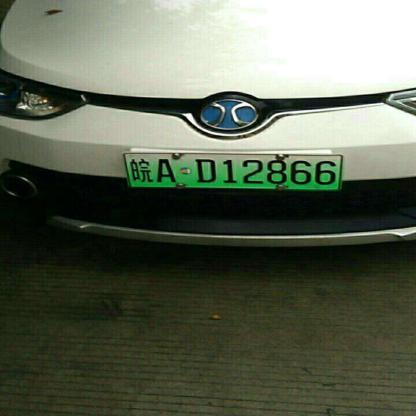lp: (124, 151, 342, 189)
